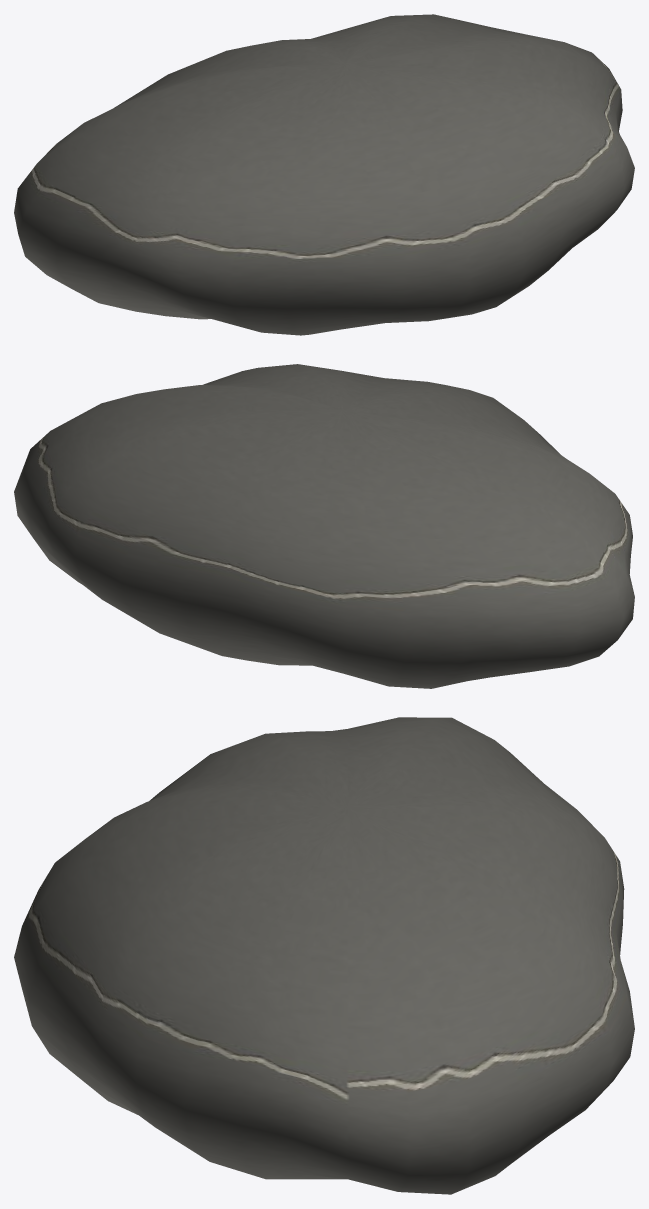
Rendered from river_stone_2.glb.
The picture shows the model from 3 angles, top to bottom: view 1: azimuth 30°, elevation 25°; view 2: azimuth 150°, elevation 25°; view 3: azimuth 270°, elevation 25°; orthographic projection. The views are drawn at different scales.
Bounding box in the file's own units: 2.69 × 0.9936 × 1.84.
1 material, 1 textured.
